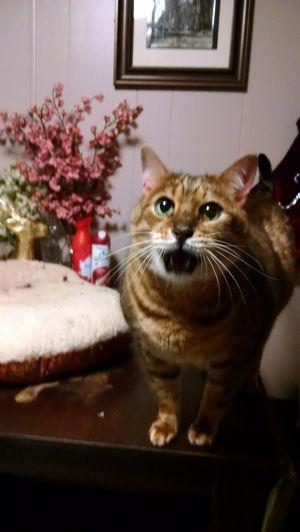bengal: (118, 135, 270, 292)
